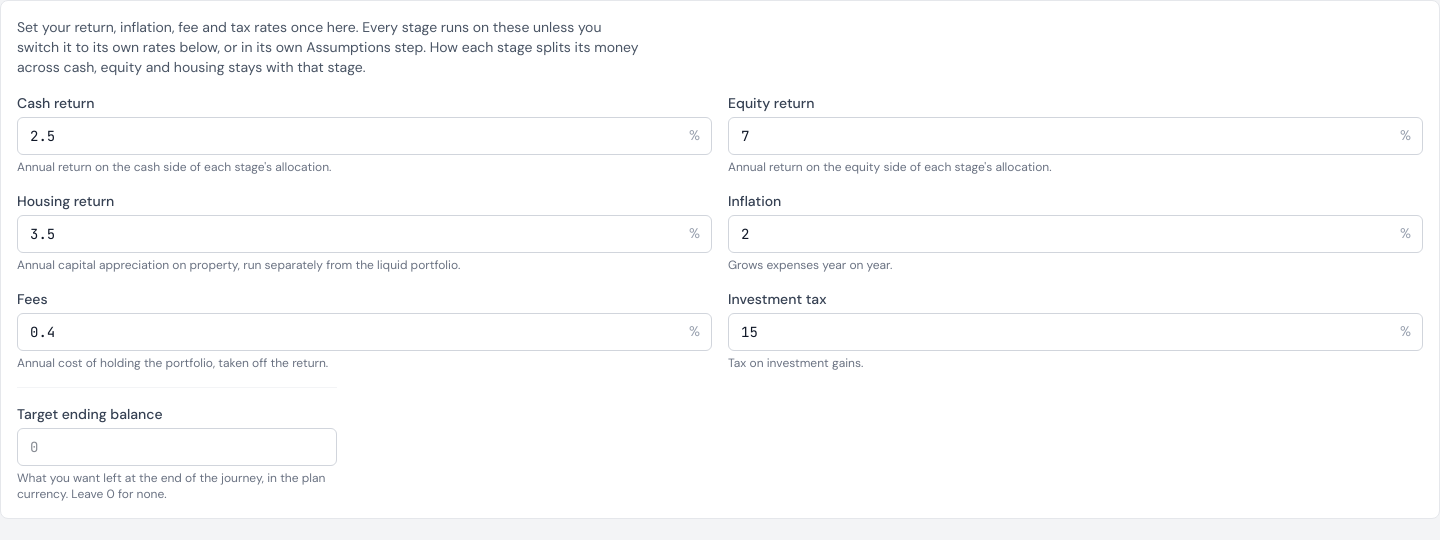
Test: JourneyAssumptionsSection › switching the active journey › leaves one journey's validation error behind when you switch away
The image size is (1440, 540).
Replace the text in the number field labelled "Fees" with "-1" at point(364, 332), box [17,313,712,351]
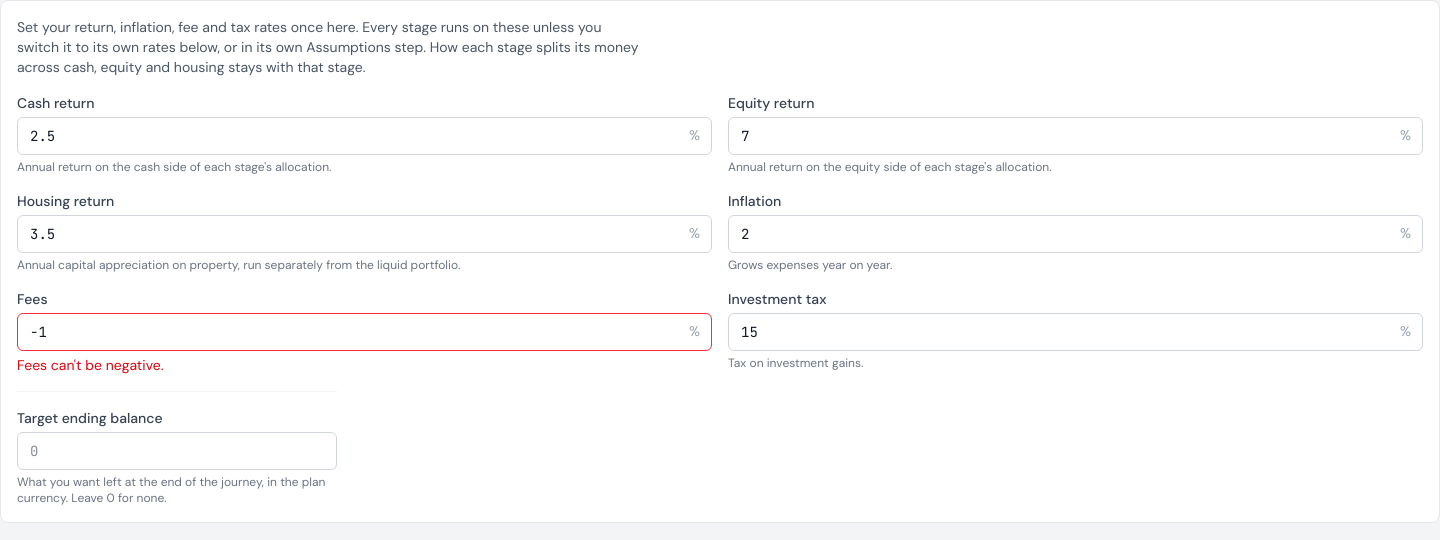
Result: the text "Fees can't be negative." is shown at [17,356,164,374]
